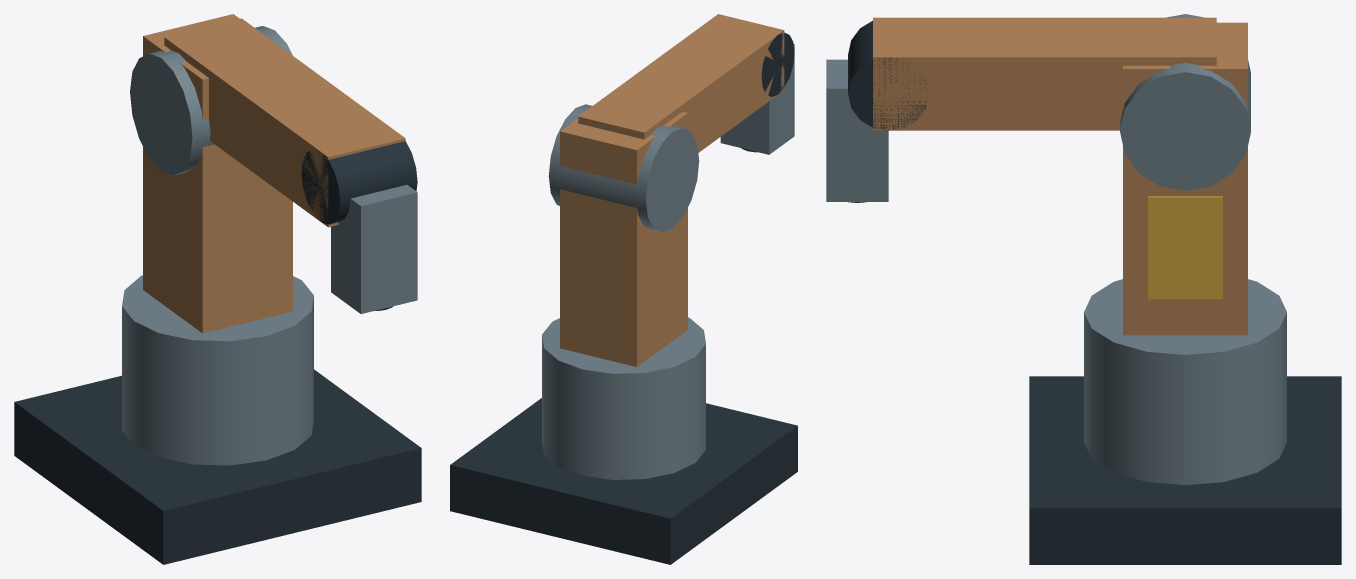
The model's file is robot.glb.
3 views of the same model, side by side, from view 1: azimuth 30°, elevation 25°; view 2: azimuth 150°, elevation 25°; view 3: azimuth 270°, elevation 25° (orthographic). The views are drawn at different scales.
Bounding box in the file's own units: 1 × 1.63 × 1.65.
